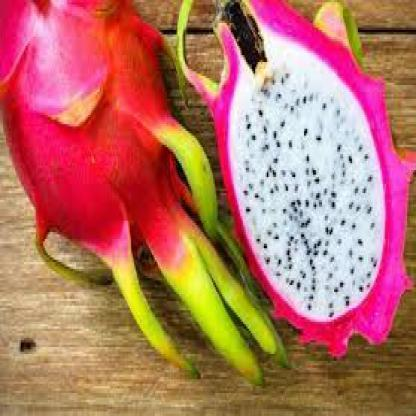dragon-fruit: (213, 22, 410, 336), (0, 0, 179, 255)
